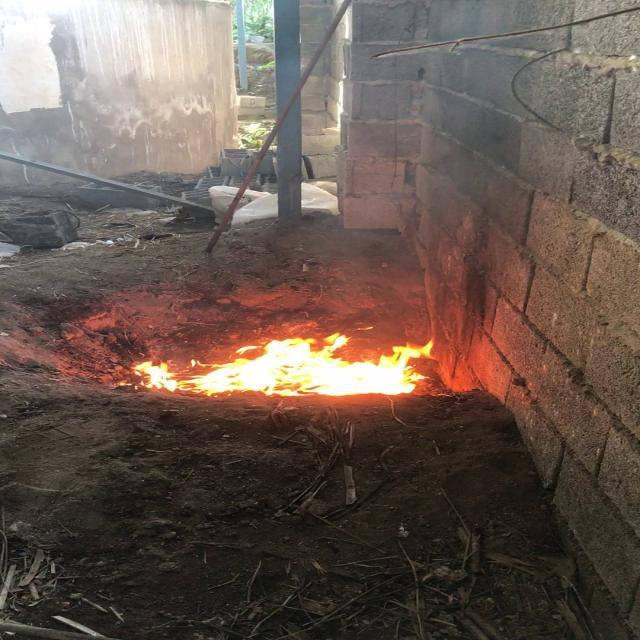fire: (118, 326, 454, 408)
